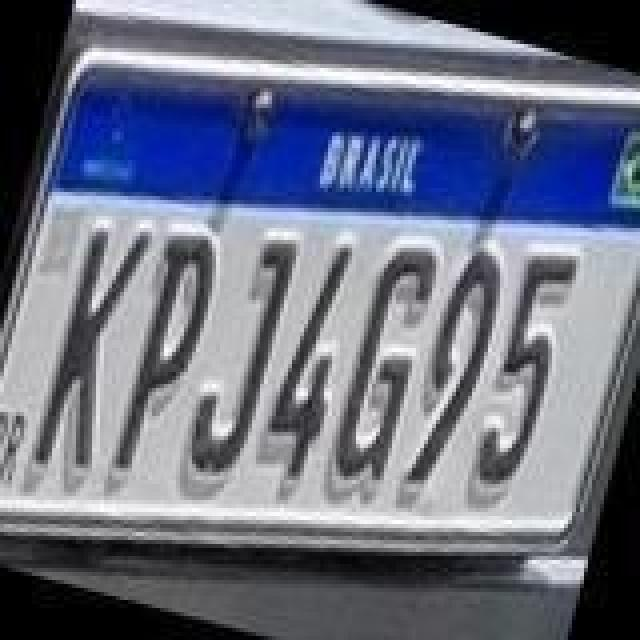4: (254, 230, 370, 482)
5: (470, 240, 586, 496)
9: (398, 242, 514, 494)
G: (324, 234, 444, 486)
J: (178, 220, 302, 484)
K: (28, 210, 156, 478)
P: (106, 222, 230, 482)
